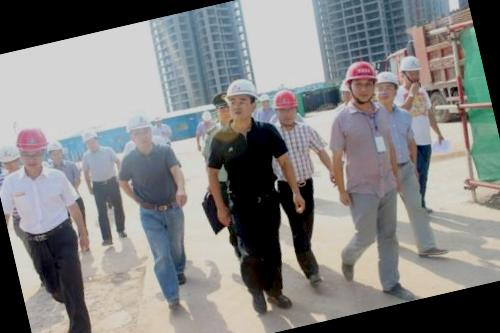no_helmet: (207, 87, 239, 130)
